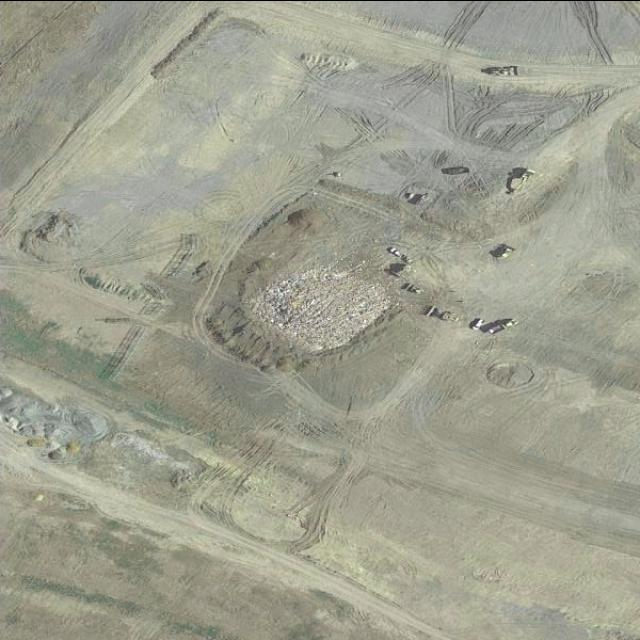dump_site: (250, 264, 392, 349)
